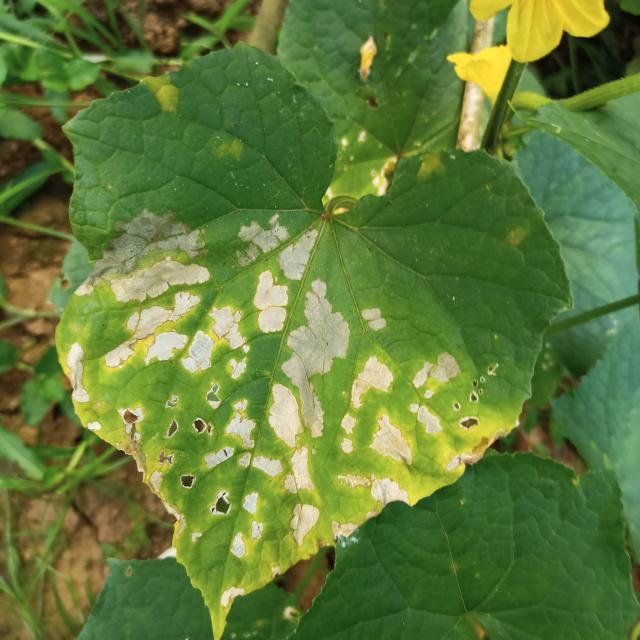disease_cucumber: (69, 207, 459, 592), (138, 70, 184, 121)
